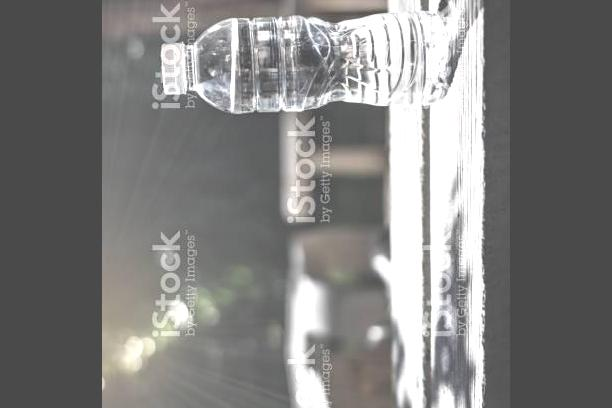bottle: (150, 3, 458, 120)
